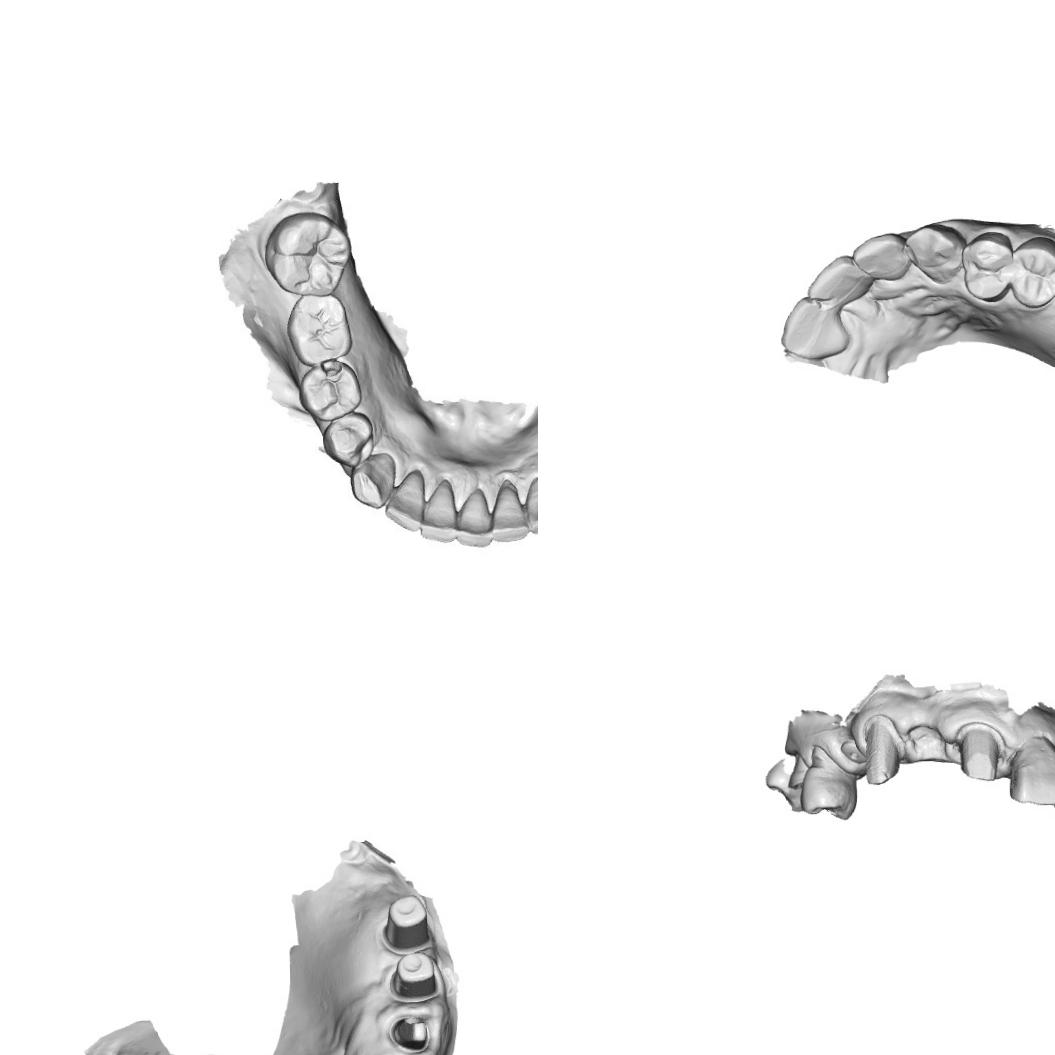abutment: (380, 892, 435, 954), (384, 950, 446, 1003), (392, 1013, 432, 1053)
canine: (903, 221, 966, 286), (345, 456, 393, 511), (525, 477, 538, 540)
crown: (953, 718, 1006, 786), (861, 714, 905, 788)
implant: (837, 736, 868, 766)
incisor: (778, 294, 851, 361), (1006, 733, 1055, 807), (804, 254, 874, 305), (850, 230, 911, 285), (490, 480, 532, 545), (384, 470, 424, 534), (419, 480, 460, 541), (458, 493, 490, 550)
molar: (265, 212, 349, 298), (282, 292, 362, 366)
premolar: (958, 229, 1013, 304), (1009, 234, 1055, 311), (799, 766, 860, 822), (302, 363, 358, 419), (324, 411, 371, 464)
